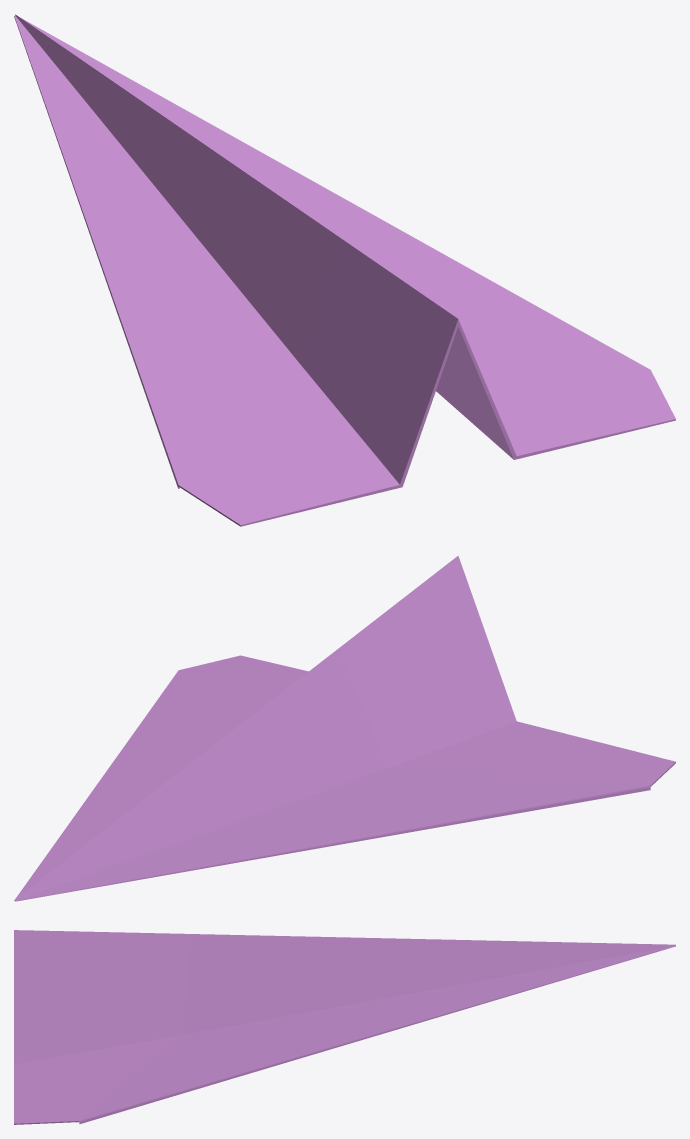
The model's file is player.obj.
3 views of the same model, one above another, from view 1: azimuth 30°, elevation 25°; view 2: azimuth 150°, elevation 25°; view 3: azimuth 270°, elevation 25° (orthographic). The views are drawn at different scales.
Parts seen in each view (by area): view 1: Cube.002_Cube; view 2: Cube.002_Cube; view 3: Cube.002_Cube.
Boxes of the visible parts, <box> form: Cube.002_Cube: <box>14,14,675,526</box>; Cube.002_Cube: <box>14,556,675,901</box>; Cube.002_Cube: <box>14,930,675,1124</box>.
Bounding box in the file's own units: 7.2 × 2.25 × 11.7.
Materials: 1 (1 with a texture image).
